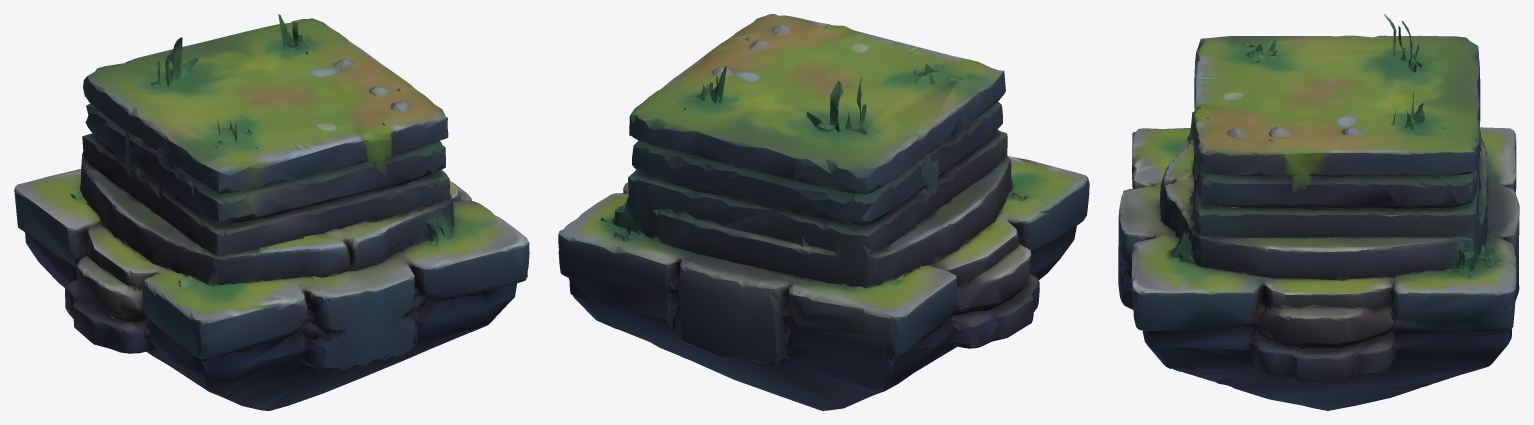
Rendered from island3.glb.
3 views of the same model, side by side, from view 1: azimuth 30°, elevation 25°; view 2: azimuth 150°, elevation 25°; view 3: azimuth 270°, elevation 25° (orthographic). The views are drawn at different scales.
Visible parts, largest first — view 1: island3; view 2: island3; view 3: island3.
Part boxes in pixels (<box>): island3: <box>14,14,529,410</box>; island3: <box>558,14,1089,410</box>; island3: <box>1118,14,1519,410</box>.
Bounding box in the file's own units: 1.89 × 1.69 × 1.69.
1 material, 1 textured.
